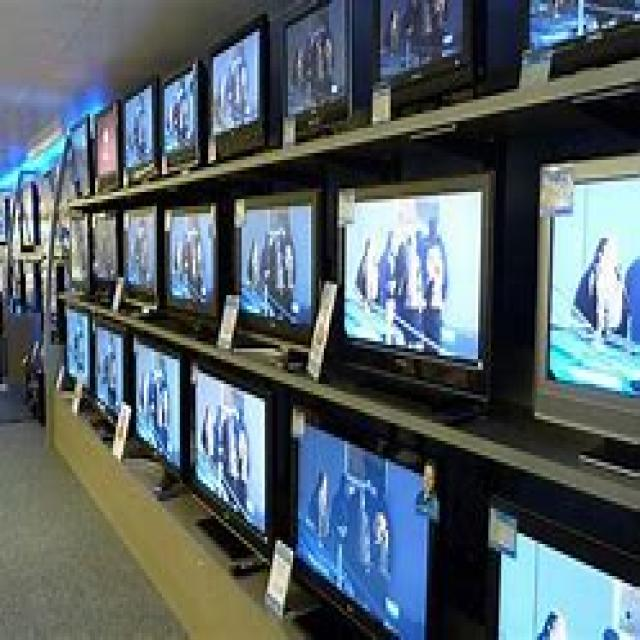tv: (329, 167, 496, 423), (286, 398, 440, 636), (530, 146, 638, 473), (483, 480, 638, 636), (188, 356, 275, 572), (229, 185, 324, 363), (370, 0, 475, 117), (280, 0, 355, 146), (206, 10, 270, 164), (131, 330, 185, 498), (162, 199, 218, 324), (159, 57, 206, 174), (119, 199, 160, 313), (121, 75, 159, 185), (92, 320, 126, 427), (88, 206, 119, 299), (92, 96, 121, 192), (62, 306, 92, 391), (67, 110, 92, 196), (67, 210, 87, 292)
